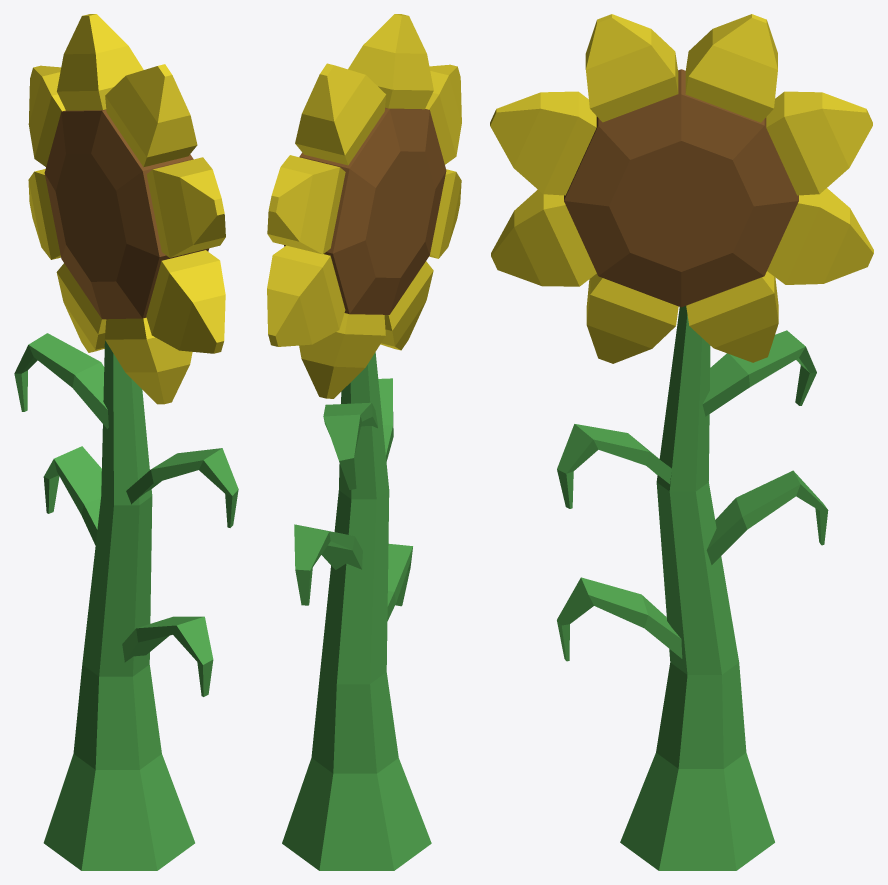
File: sunflower03.glb
The picture shows the model from 3 angles, left to right: view 1: azimuth 30°, elevation 25°; view 2: azimuth 150°, elevation 25°; view 3: azimuth 270°, elevation 25°; orthographic projection. The views are drawn at different scales.
Parts seen in each view (by area): view 1: Sunflower-3; view 2: Sunflower-3; view 3: Sunflower-3.
Part boxes in pixels (bbox=[...]): Sunflower-3: bbox=[14, 14, 238, 870]; Sunflower-3: bbox=[267, 14, 461, 870]; Sunflower-3: bbox=[490, 14, 873, 870].
Size of the model in its own units: 0.1506 by 1.02 by 0.43.
